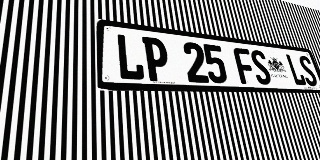2: (182, 41, 209, 83)
5: (202, 44, 229, 83)
F: (232, 47, 257, 84)
L: (116, 33, 145, 81), (285, 54, 307, 86)
P: (142, 36, 171, 82)
S: (249, 49, 273, 85), (297, 55, 319, 86)
